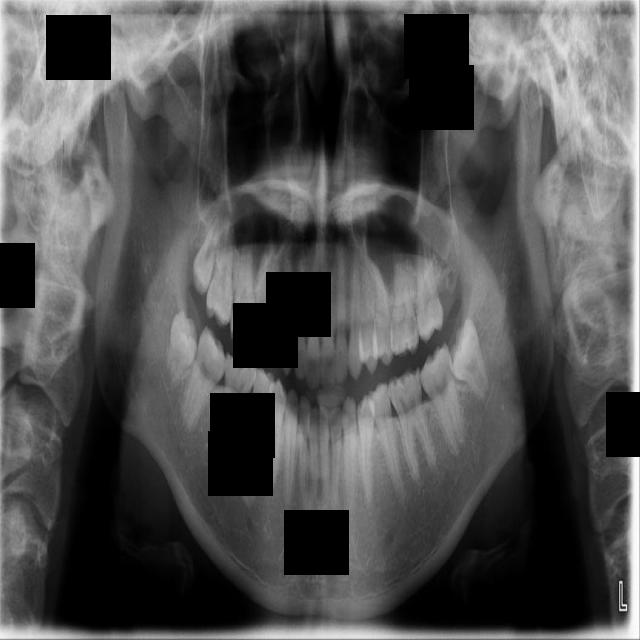3M ESPE Implant: (188, 212, 223, 298)
52: (229, 291, 260, 345)
73: (602, 564, 608, 574)
BioHorizons Implant: (405, 222, 446, 339)
Biomet 3i Implant: (440, 314, 494, 407)
Blue Sky Bio Implant: (415, 341, 468, 457)
Caries: (204, 214, 243, 326)
Implant: (177, 325, 236, 436)
Keystone Dental Implant: (163, 310, 202, 391)
